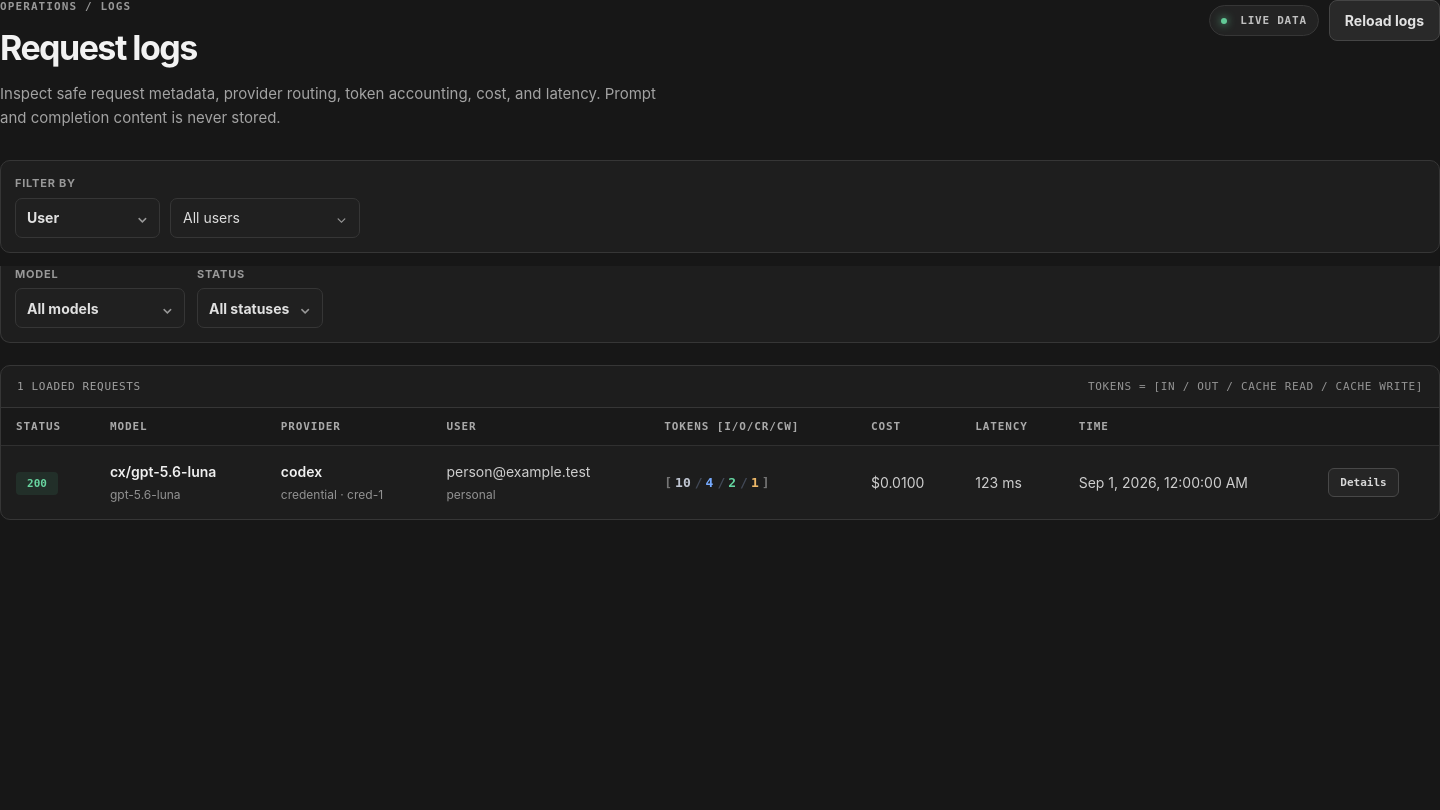
Test: opens request details from a clicked log row and closes the popup
Expected: the button "Details" is shown, left=1328, top=468, right=1399, bottom=497
Click the button with aria-label "View request usage-1 details" at (720, 483), box left=1, top=446, right=1439, bottom=519
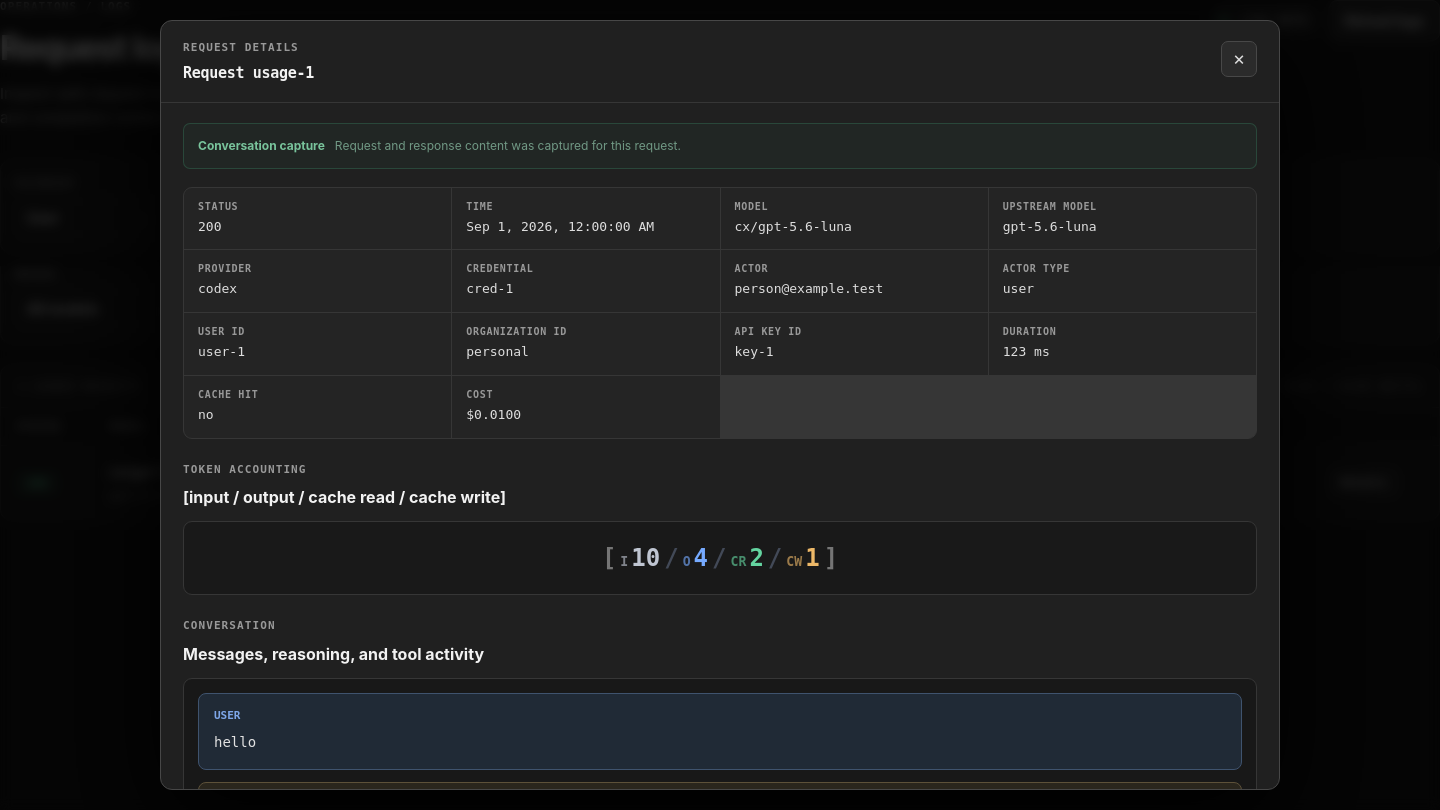
Expected: the dialog "Request usage-1" is shown
Expected: the text "Conversation" is shown, left=183, top=619, right=276, bottom=632
Expected: the text "hello" is shown, left=214, top=734, right=256, bottom=750
Click the button named "Close details" at (1239, 59), box left=1221, top=41, right=1257, bottom=77
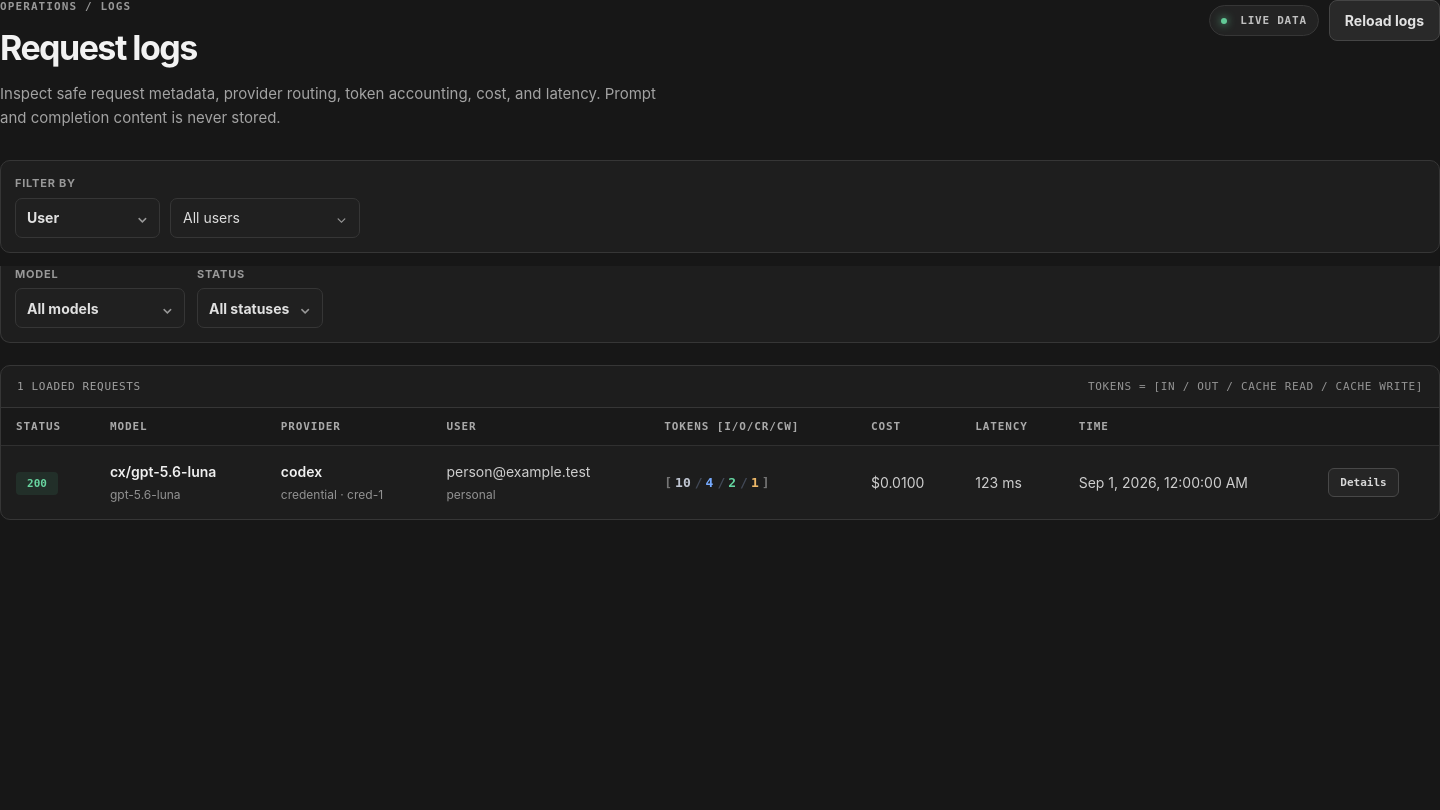
Expected: the dialog is gone
